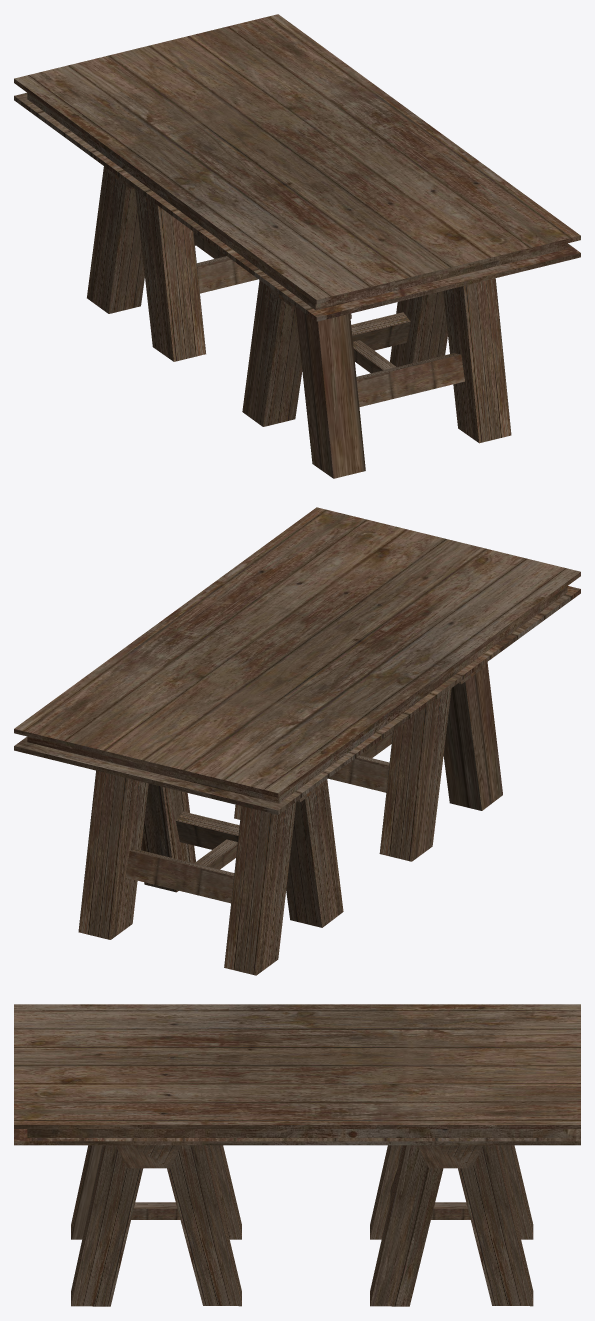
File: RITUAL TABLE 1.fbx
3 views of the same model, one above another, from view 1: azimuth 30°, elevation 25°; view 2: azimuth 150°, elevation 25°; view 3: azimuth 270°, elevation 25° (orthographic). The views are drawn at different scales.
Parts seen in each view (by area): view 1: Cube.017; view 2: Cube.017; view 3: Cube.017.
Part boxes in pixels (x1=…): Cube.017: x1=14, y1=14, x2=580, y2=478; Cube.017: x1=14, y1=507, x2=580, y2=975; Cube.017: x1=14, y1=1004, x2=580, y2=1306.
Size of the model in its own units: 155 by 120 by 308.
